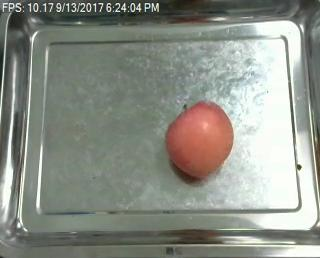apple: (167, 99, 234, 180)
